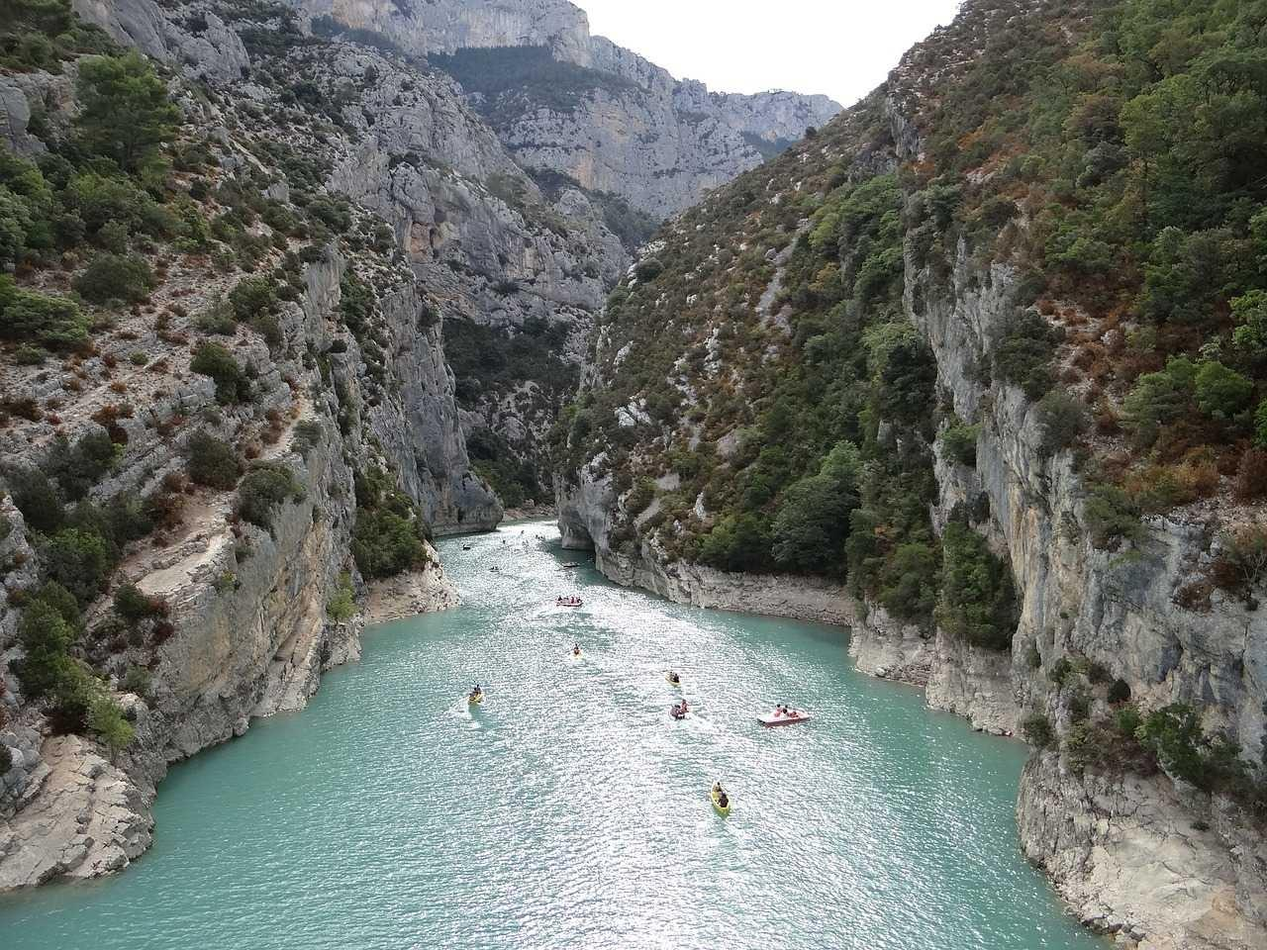kayak: (758, 704, 813, 727), (710, 782, 731, 812), (668, 699, 690, 719)
